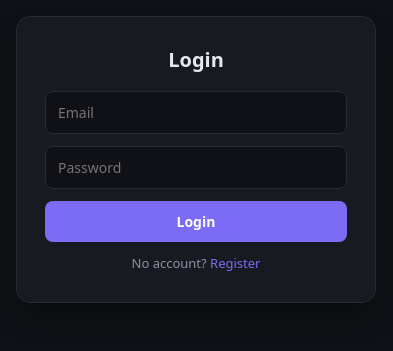
Test: login › shows an error and does not report success when login fails
Type "a@b.com" into the field with placeholder "Email" at {"x": 196, "y": 112}, box [45, 91, 347, 134]
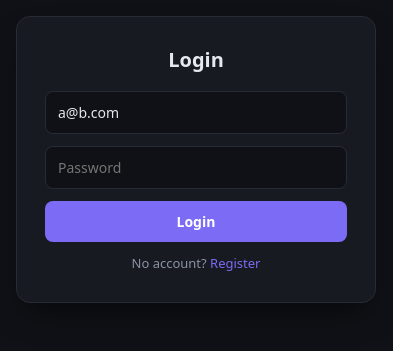
Type "wrong" into the password field with placeholder "Password" at {"x": 196, "y": 168}, box [45, 146, 347, 189]
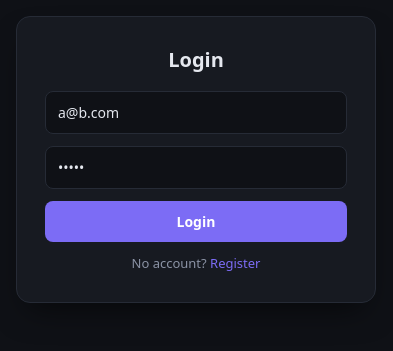
Click the button "Login" at {"x": 196, "y": 222}, box [45, 201, 347, 242]
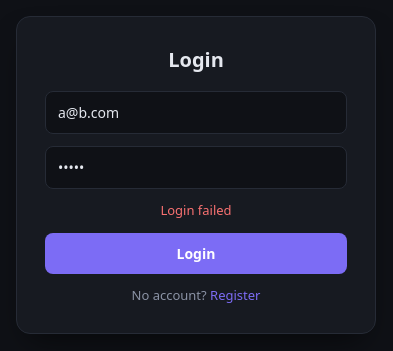
Result: the text "Login failed" is shown at [160, 201, 232, 219]
